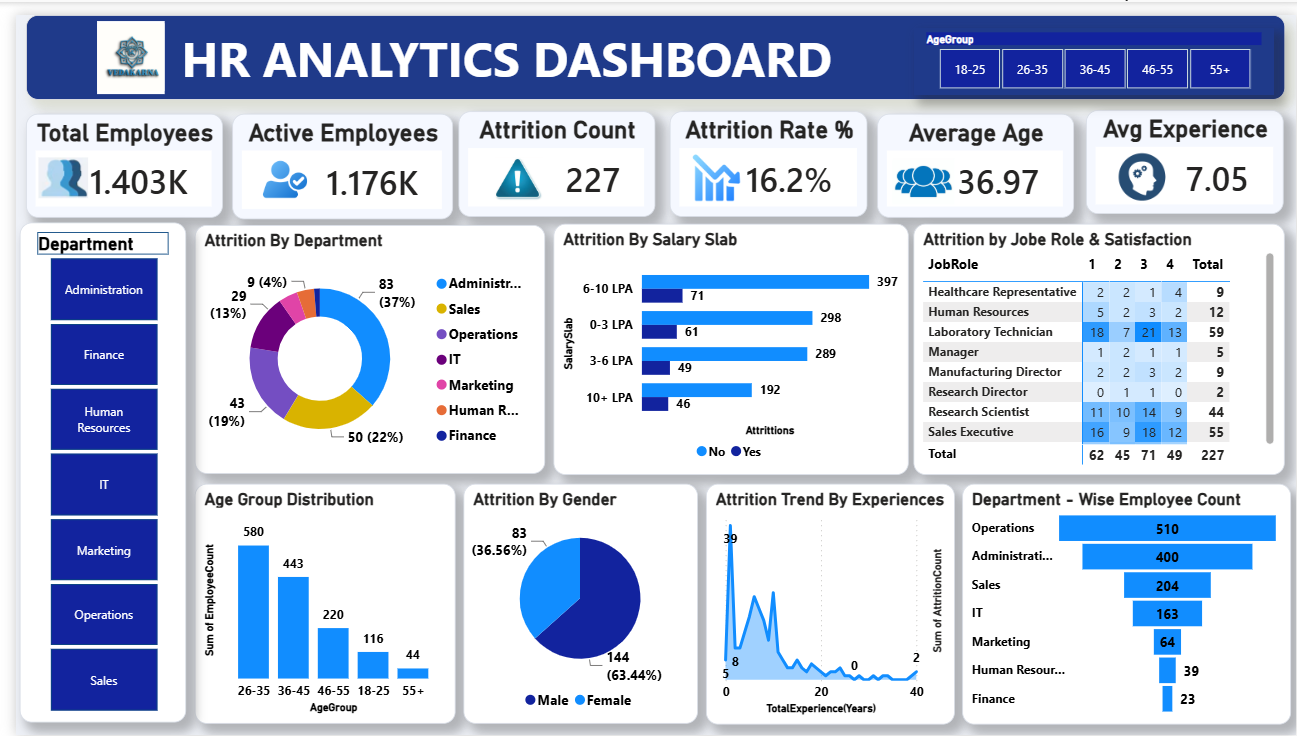

Layout of this report page (visuals, bound fields, positions):
{"tool":"powerbi","page":{"name":"Page 1","canvas":[1280,720],"ordinal":0},"visuals":[{"type":"textbox","box":[10,0,1259,85],"z":0},{"type":"image","box":[81,6.9,67.2,72.7],"z":1000},{"type":"cardVisual","title":"Total Employees","fields":{"Data":["CountNonNull(HR_Analytics-4.EmpID)"]},"box":[10,98.3,196.5,104],"z":2000},{"type":"cardVisual","title":"Active Employees","fields":{"Data":["CountNonNull(HR_Analytics-4.EmployeeCount)"]},"box":[216.5,98.3,220.7,105.4],"z":3000},{"type":"cardVisual","title":"Attrition Count","fields":{"Data":["Sum(HR_Analytics-4.AttritionCount)"]},"box":[442.9,96.8,196.5,105.4],"z":4000},{"type":"cardVisual","title":"Attrition Rate %","fields":{"Data":["HR_Analytics-4.Attrition Rate %"]},"box":[653.7,96.8,198,105.4],"z":5000},{"type":"cardVisual","title":"Average Age","fields":{"Data":["Avg(HR_Analytics-4.Age)"]},"box":[861.6,98.3,196.5,104],"z":6000},{"type":"cardVisual","title":"Avg Experience","fields":{"Data":["Avg(HR_Analytics-4.YearsatCompany)"]},"box":[1070.3,94.7,197.6,104.3],"z":7000},{"type":"image","box":[23.1,140,49.2,45.4],"z":8000},{"type":"image","box":[245.9,130,45.3,68.8],"z":9000},{"type":"image","box":[475.6,142.5,52.5,43.1],"z":10000},{"type":"image","box":[670,137.3,60.9,50],"z":11000},{"type":"image","box":[876,142.7,62,48.7],"z":12000},{"type":"image","box":[1095.3,130,62.7,63.3],"z":13000},{"type":"donutChart","title":"Attrition By Department","fields":{"Category":["HR_Analytics-4.Department"],"Y":["Sum(HR_Analytics-4.AttritionCount)"]},"box":[179,210,350,249],"z":14000},{"type":"clusteredBarChart","title":"Attrition By Salary Slab","fields":{"Category":["HR_Analytics-4.SalarySlab"],"Y":["CountNonNull(HR_Analytics-4.EmpID)"],"Series":["HR_Analytics-4.Attrition"]},"box":[537,209,355,251],"z":15000},{"type":"pivotTable","title":"Attrition by Jobe Role & Satisfaction","fields":{"Rows":["HR_Analytics-4.JobRole"],"Values":["Sum(HR_Analytics-4.AttritionCount)"],"Columns":["HR_Analytics-4.JobSatisfaction"]},"box":[898,209,371,251],"z":15001},{"type":"columnChart","title":"Age Group Distribution","fields":{"Category":["HR_Analytics-4.AgeGroup"],"Y":["Sum(HR_Analytics-4.EmployeeCount)"]},"box":[179,469,261,240],"z":15002},{"type":"pieChart","title":"Attrition By Gender","fields":{"Category":["HR_Analytics-4.Gender"],"Y":["Sum(HR_Analytics-4.AttritionCount)"]},"box":[448,469,234,240],"z":15003},{"type":"areaChart","title":"Attrition Trend By Experiences","fields":{"Category":["HR_Analytics-4.TotalExperience(Years)"],"Y2":["Sum(HR_Analytics-4.AttritionCount)"]},"box":[689.7,469.1,248.5,241.2],"z":15004},{"type":"funnel","title":"Department - Wise Employee Count","fields":{"Category":["HR_Analytics-4.Department"],"Y":["CountNonNull(HR_Analytics-4.EmpID)"]},"box":[945.8,468.9,328.9,241.1],"z":15005},{"type":"slicer","fields":{"Values":["HR_Analytics-4.Department"]},"box":[4,208,166.2,500],"z":15006},{"type":"slicer","fields":{"Values":["HR_Analytics-4.AgeGroup"]},"box":[898,12,361,68],"z":15008}]}

Visuals, with their boxes in screenshot pixels (x1, y1, x2, y2), scaled from the page's 1280x720 canvas onto the 1297x736 screenshot:
textbox: bbox(10, 0, 1286, 87)
image: bbox(82, 7, 150, 81)
"Total Employees" cardVisual: bbox(10, 100, 209, 207)
"Active Employees" cardVisual: bbox(219, 100, 443, 208)
"Attrition Count" cardVisual: bbox(449, 99, 648, 207)
"Attrition Rate %" cardVisual: bbox(662, 99, 863, 207)
"Average Age" cardVisual: bbox(873, 100, 1072, 207)
"Avg Experience" cardVisual: bbox(1085, 97, 1285, 203)
image: bbox(23, 143, 73, 190)
image: bbox(249, 133, 295, 203)
image: bbox(482, 146, 535, 190)
image: bbox(679, 140, 741, 191)
image: bbox(888, 146, 950, 196)
image: bbox(1110, 133, 1173, 198)
"Attrition By Department" donutChart: bbox(181, 215, 536, 469)
"Attrition By Salary Slab" clusteredBarChart: bbox(544, 214, 904, 470)
"Attrition by Jobe Role & Satisfaction" pivotTable: bbox(910, 214, 1286, 470)
"Age Group Distribution" columnChart: bbox(181, 479, 446, 725)
"Attrition By Gender" pieChart: bbox(454, 479, 691, 725)
"Attrition Trend By Experiences" areaChart: bbox(699, 480, 951, 726)
"Department - Wise Employee Count" funnel: bbox(958, 479, 1292, 726)
slicer - HR_Analytics-4.Department: bbox(4, 213, 172, 724)
slicer - HR_Analytics-4.AgeGroup: bbox(910, 12, 1276, 82)
